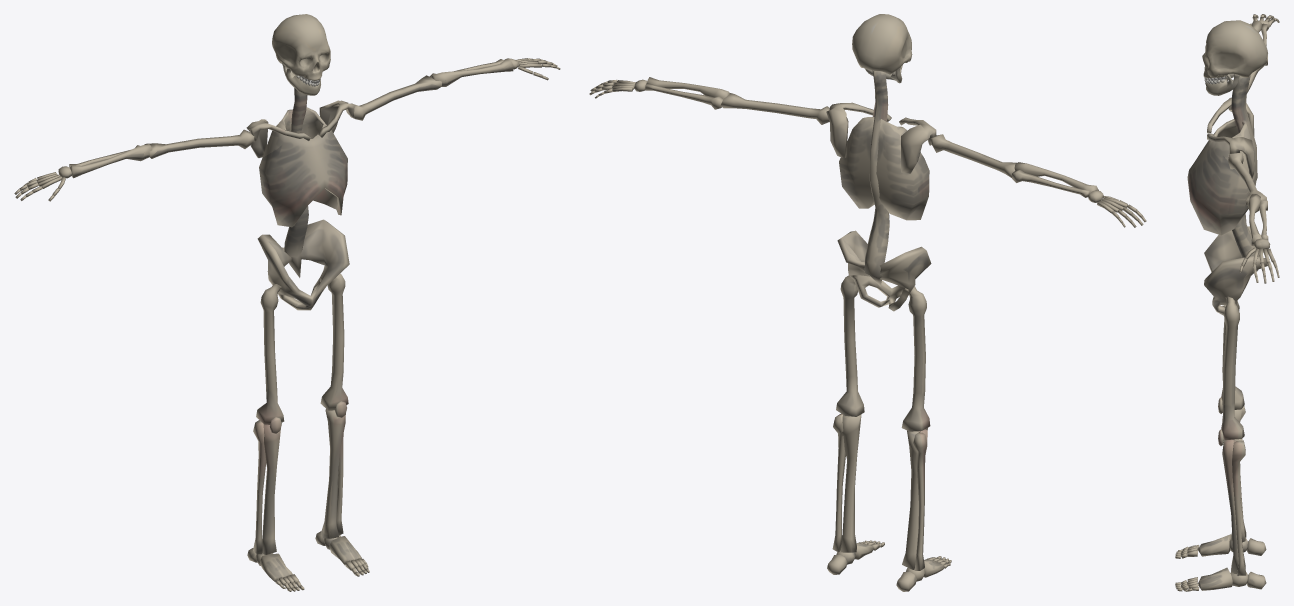
Rendered from skeleton.fbx.
3 views of the same model, side by side, from view 1: azimuth 30°, elevation 25°; view 2: azimuth 150°, elevation 25°; view 3: azimuth 270°, elevation 25° (orthographic).
Visible parts, largest first — view 1: spine; view 2: spine; view 3: spine.
Boxes of the visible parts, x1,y1,x2,y2 form: spine: (14,14,560,591); spine: (589,14,1146,591); spine: (1175,14,1279,591).
Size of the model in its own units: 205 by 197 by 33.93.
